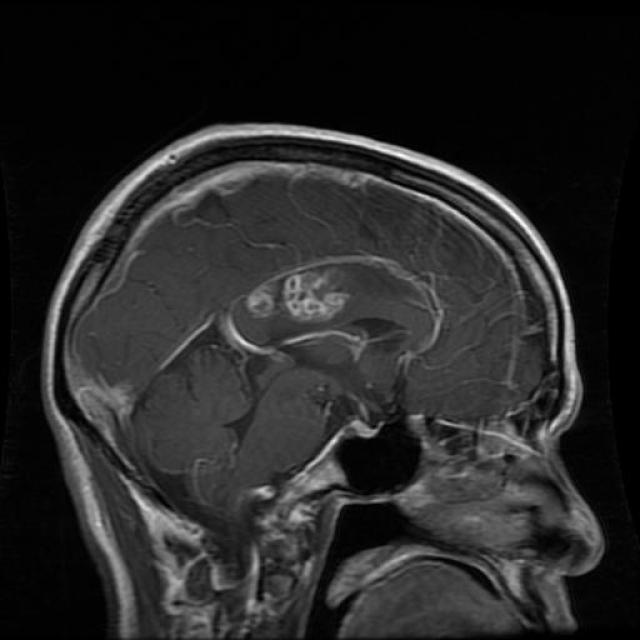glioma: (236, 251, 350, 347)
